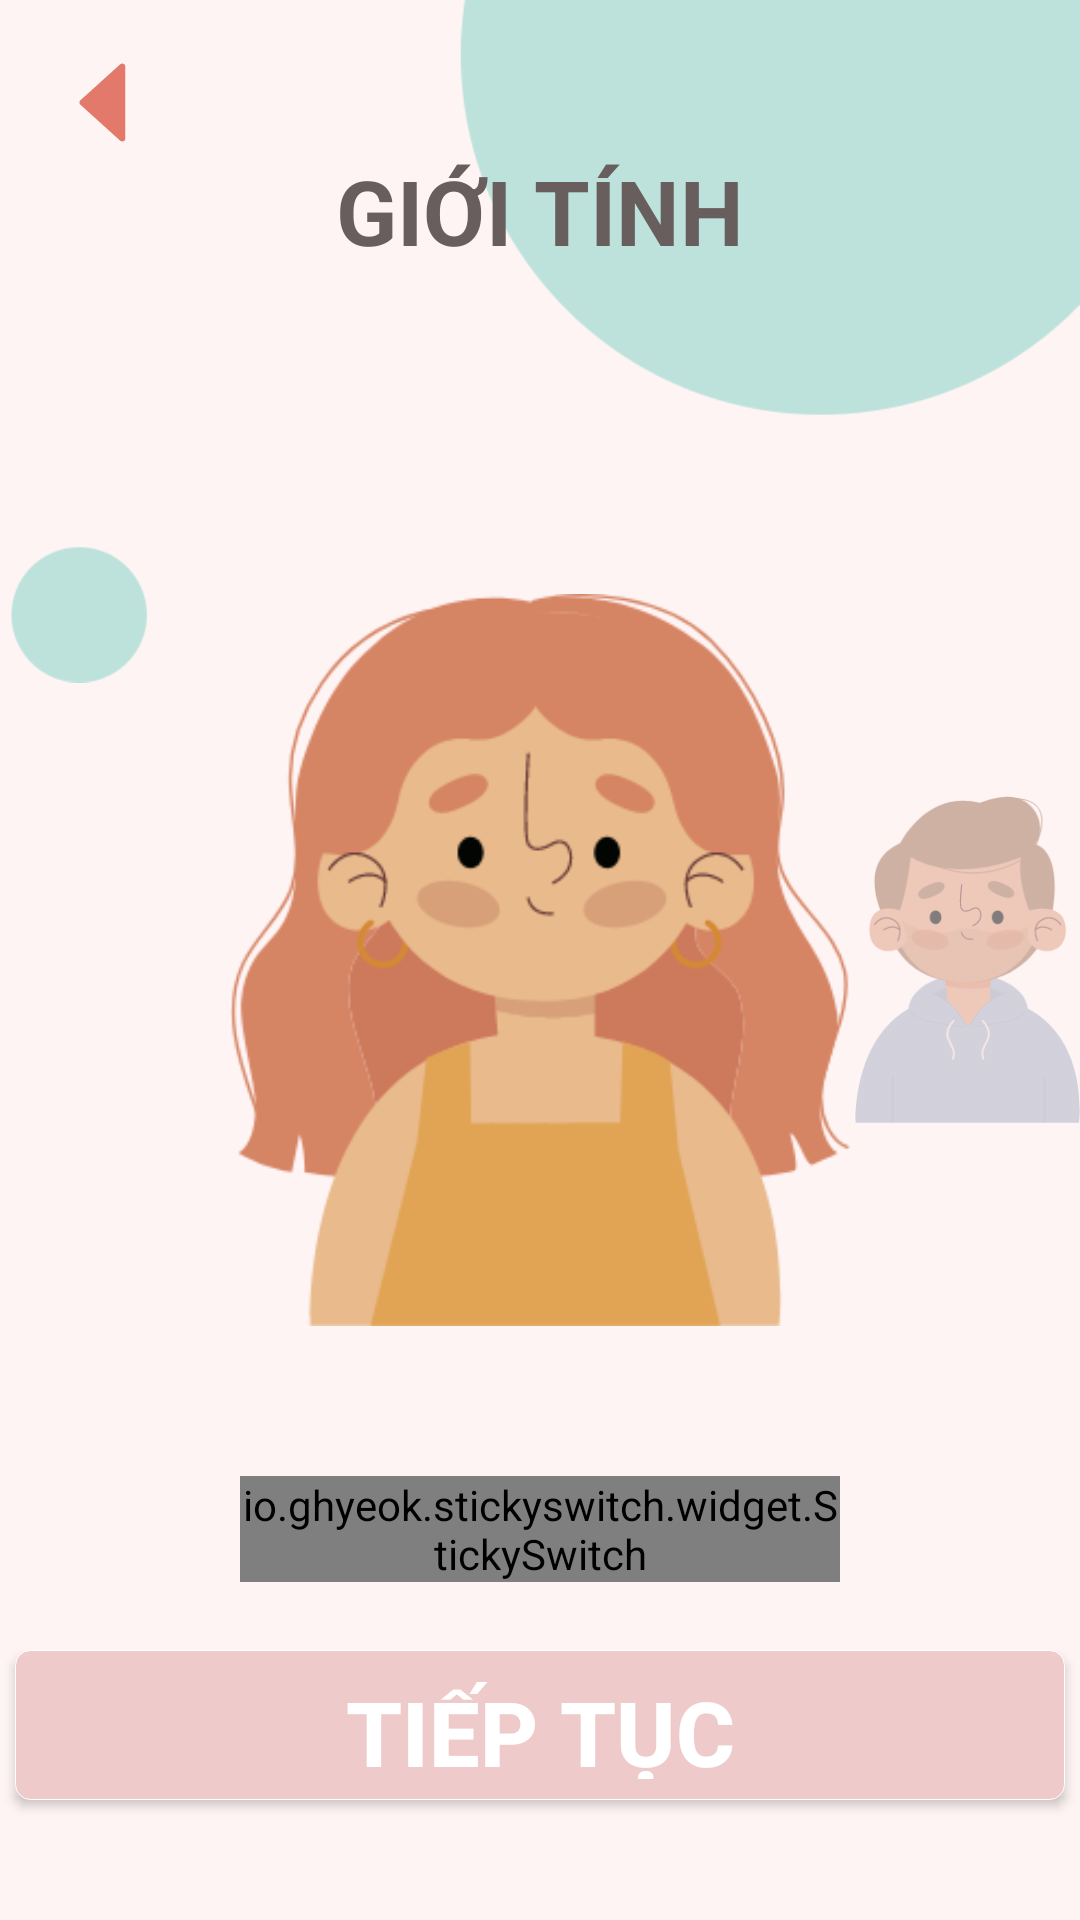

Icon bounding boxes for this 1080 x 1920 phone screenshot, format (x1, y1, x2, y2):
back: (79, 63, 126, 142)
male: (855, 797, 1080, 1123)
